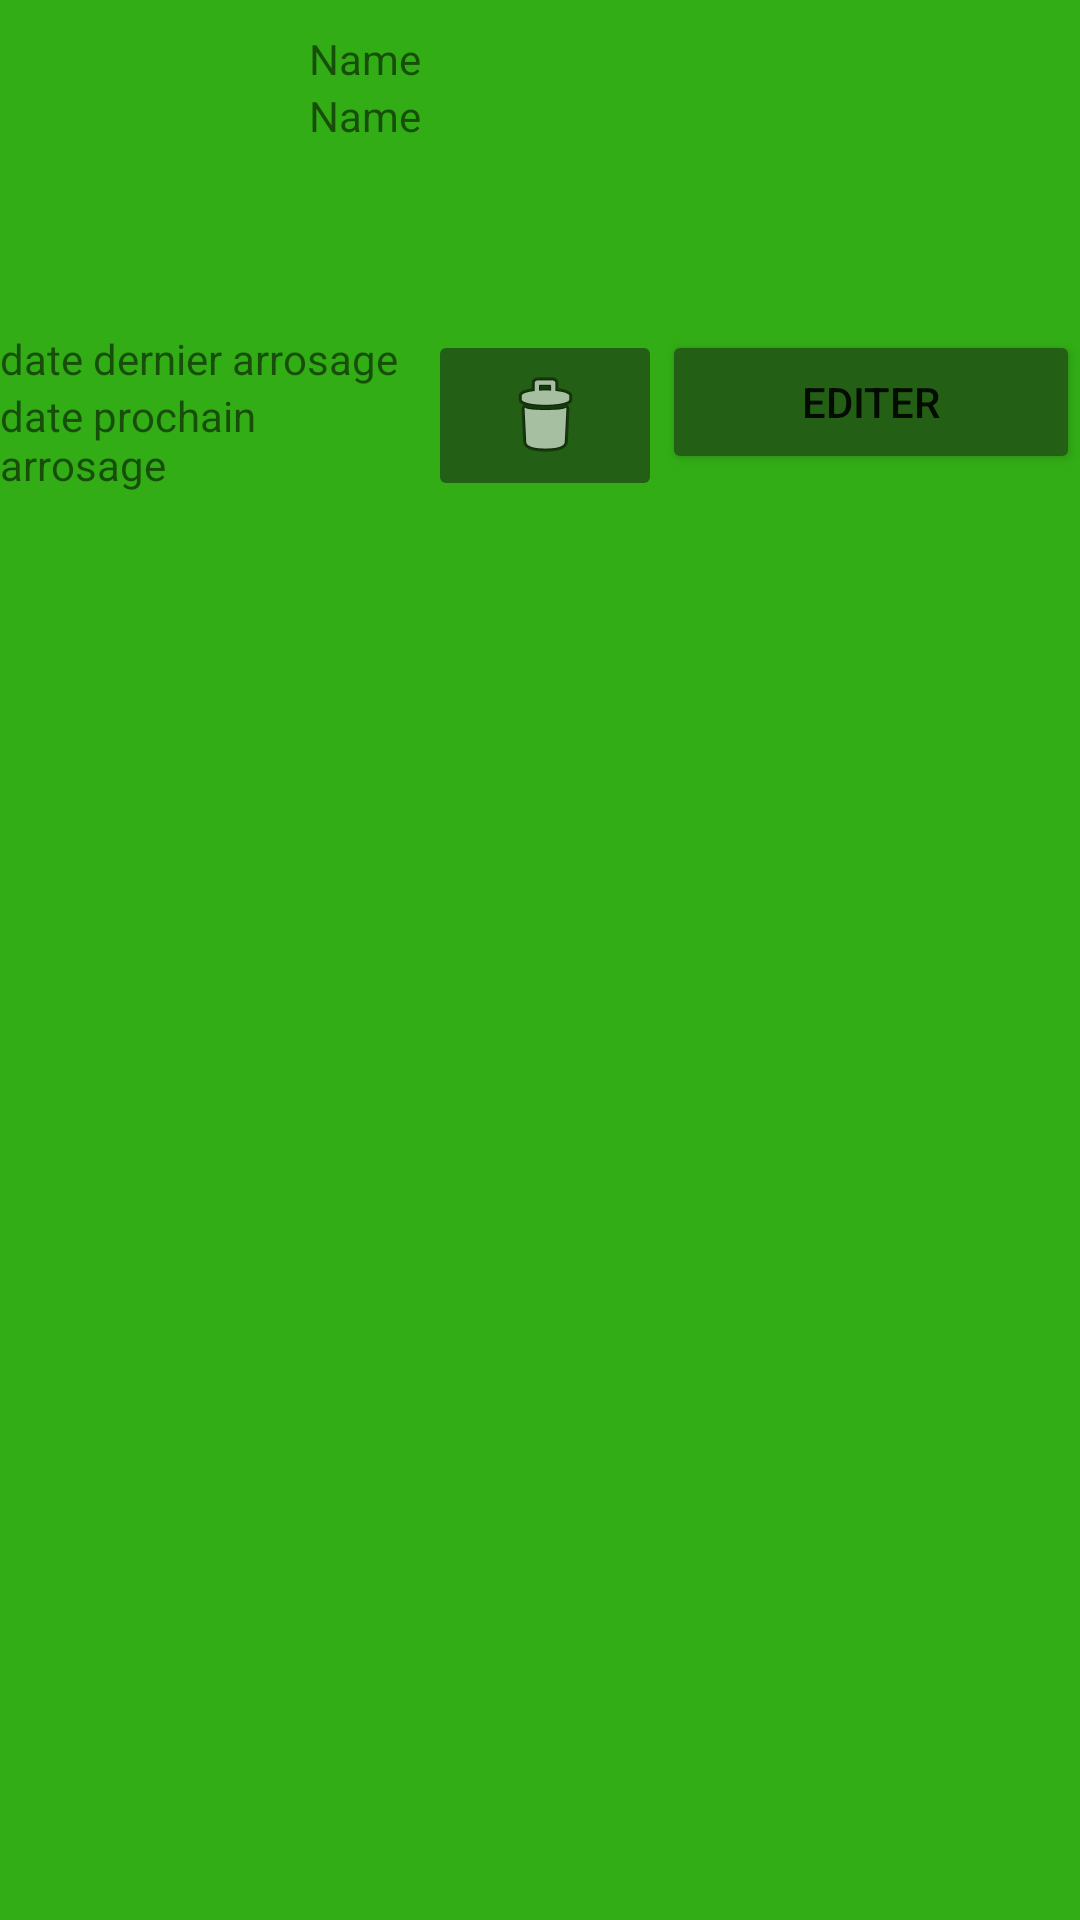

Where to tap for icons on this 1080w x 1920h app screen, as (x=x, y=y):
delete: (x=545, y=415)
